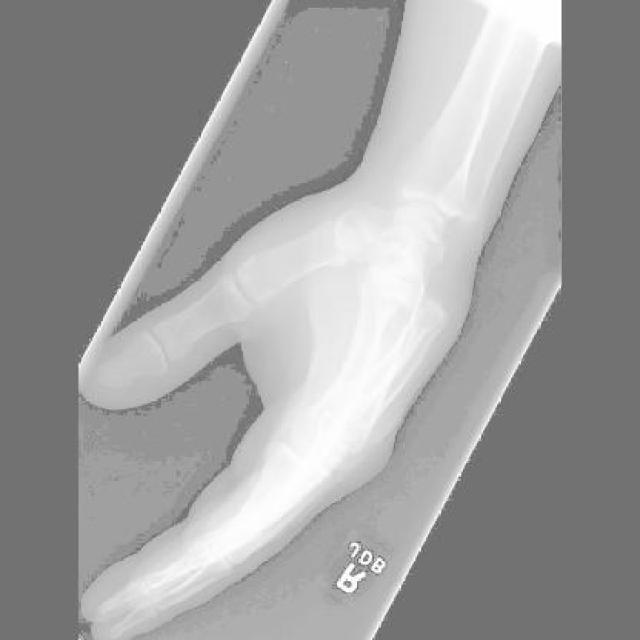Fracture: (403, 295, 451, 340), (410, 299, 453, 344)
